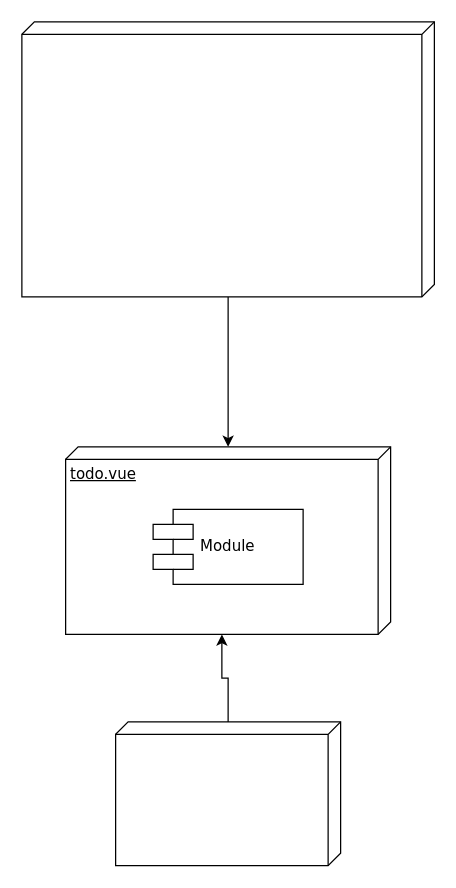
Some shapes in this 456 by 888 pixel diagram are drawn without their labels. The shapes that lost their labels are listed below. From the top down, each one's centre as x and y in pixels, then its label:
(227,159): app.vue
(227,793): todoInput.vue
